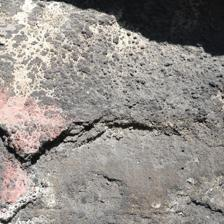Crack: (47, 0, 133, 80), (147, 19, 208, 71)
